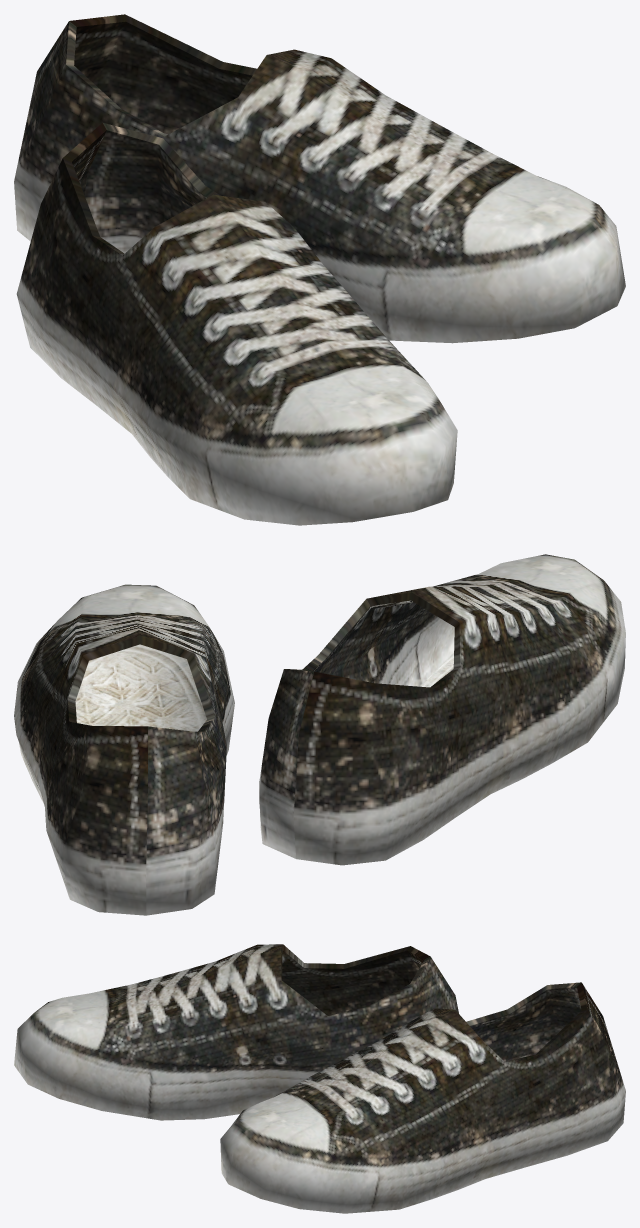
The model's file is Shoes.FBX.
The picture shows the model from 3 angles, top to bottom: view 1: azimuth 30°, elevation 25°; view 2: azimuth 150°, elevation 25°; view 3: azimuth 270°, elevation 25°; orthographic projection. The views are drawn at different scales.
Parts seen in each view (by area): view 1: shoes; view 2: shoes; view 3: shoes.
Boxes of the visible parts, x1,y1,x2,y2 form: shoes: [14, 14, 625, 525]; shoes: [14, 554, 625, 915]; shoes: [14, 944, 625, 1213].
Size of the model in its own units: 5.98 by 9.02 by 2.35.
Materials: 1 (1 with a texture image).
